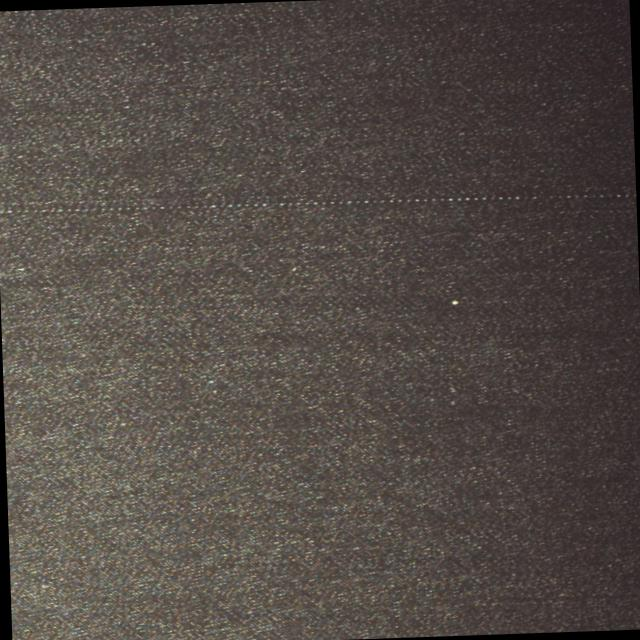Warp_Weft: (0, 182, 635, 221)
